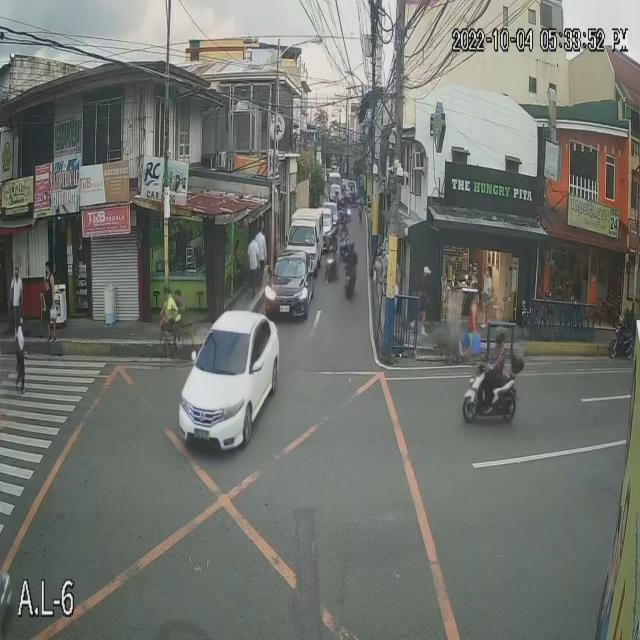full: (494, 324, 505, 345)
